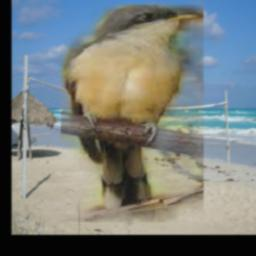Cuckoo: (61, 5, 204, 222)
